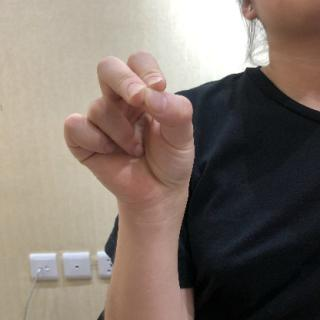QAAF: (57, 46, 202, 217)
